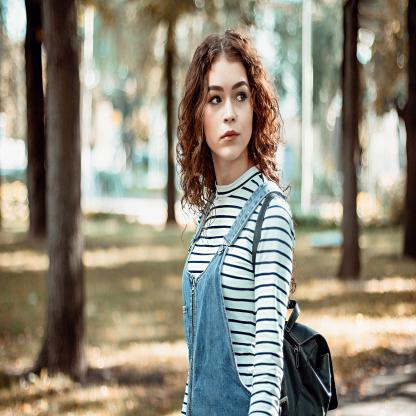Eye: (207, 92, 224, 107), (235, 89, 249, 103)
Mouth: (221, 126, 239, 143)
Nose: (222, 99, 236, 125)
